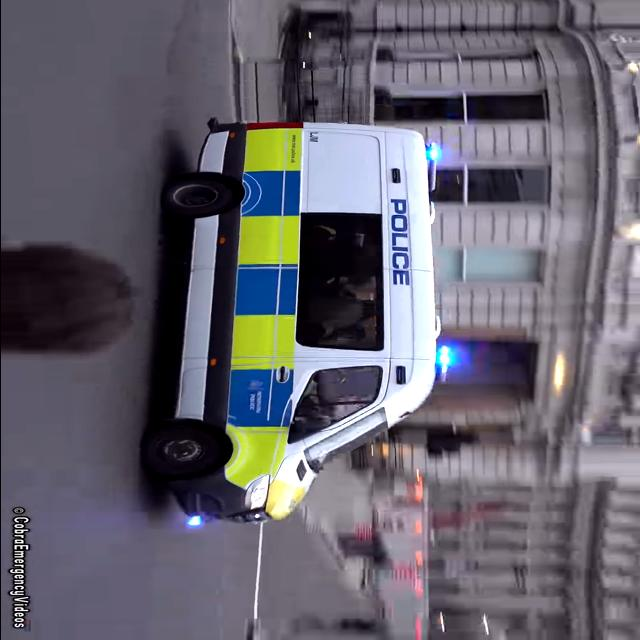emergency-vehicles: (136, 108, 464, 546)
